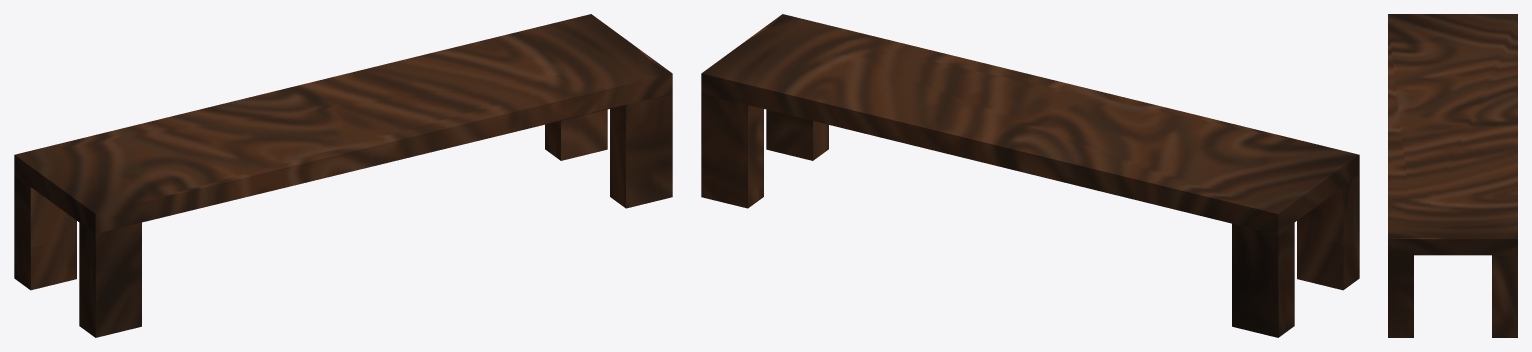
File: table.obj
3 views of the same model, side by side, from view 1: azimuth 30°, elevation 25°; view 2: azimuth 150°, elevation 25°; view 3: azimuth 270°, elevation 25° (orthographic). The views are drawn at different scales.
Visible parts, largest first — view 1: Mesa_Cube.006; view 2: Mesa_Cube.006; view 3: Mesa_Cube.006.
Boxes of the visible parts, box(x1,y1,x2,y2) form: Mesa_Cube.006: box(14, 14, 672, 337); Mesa_Cube.006: box(701, 14, 1359, 337); Mesa_Cube.006: box(1388, 14, 1517, 337).
Bounding box in the file's own units: 5 × 1.03 × 1.22.
